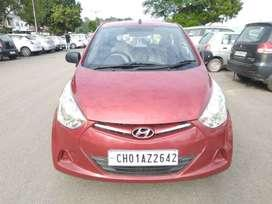CH01AZ2642: (107, 148, 177, 165)
